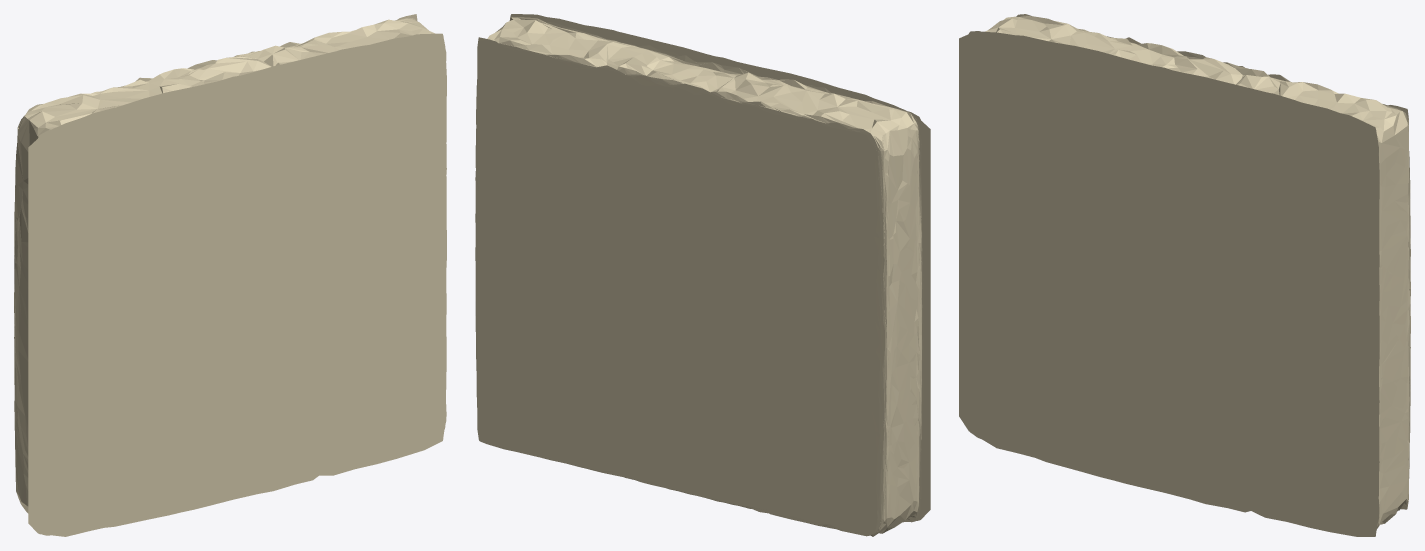
The model's file is improved.glb.
The picture shows the model from 3 angles, left to right: view 1: azimuth 30°, elevation 25°; view 2: azimuth 150°, elevation 25°; view 3: azimuth 330°, elevation 25°; orthographic projection.
Visible parts, largest first — view 1: world; view 2: world; view 3: world.
Part boxes in pixels (x1,y1,x2,y2): world: (14,14,446,536); world: (475,14,930,536); world: (959,14,1410,536).
Bounding box in the file's own units: 0.5 × 0.4829 × 0.06.
